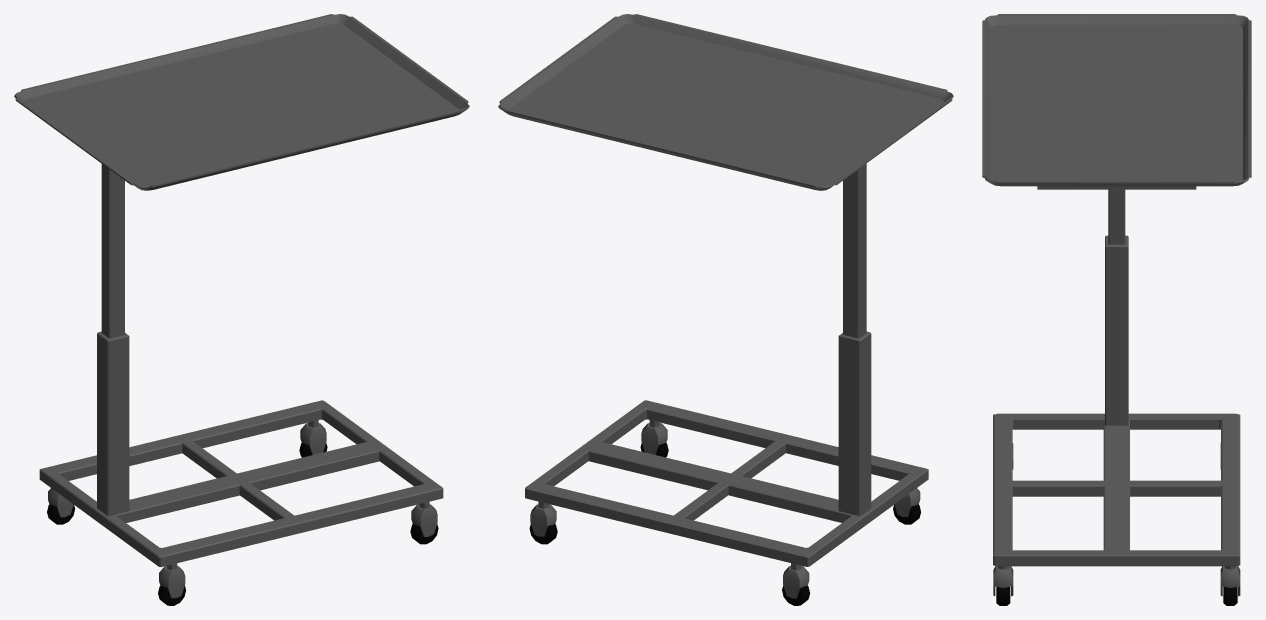
Rendered from operTable.FBX.
3 renders of one model, left to right at view 1: azimuth 30°, elevation 25°; view 2: azimuth 150°, elevation 25°; view 3: azimuth 270°, elevation 25°, orthographic. The views are drawn at different scales.
Parts seen in each view (by area): view 1: OperTable; view 2: OperTable; view 3: OperTable.
Boxes of the visible parts, x1=… form: OperTable: x1=14, y1=14, x2=469, y2=605; OperTable: x1=498, y1=14, x2=953, y2=605; OperTable: x1=982, y1=14, x2=1251, y2=605.
Size of the model in its own units: 0.6602 by 0.8104 by 0.4462.
